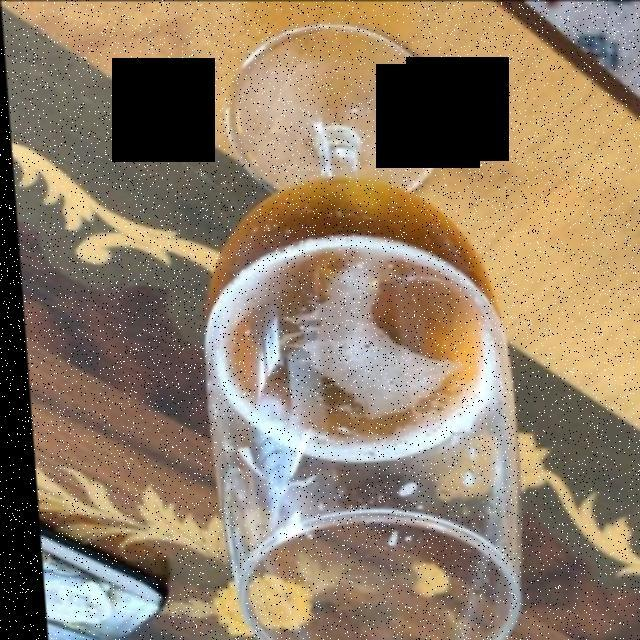beer: (211, 209, 484, 451)
